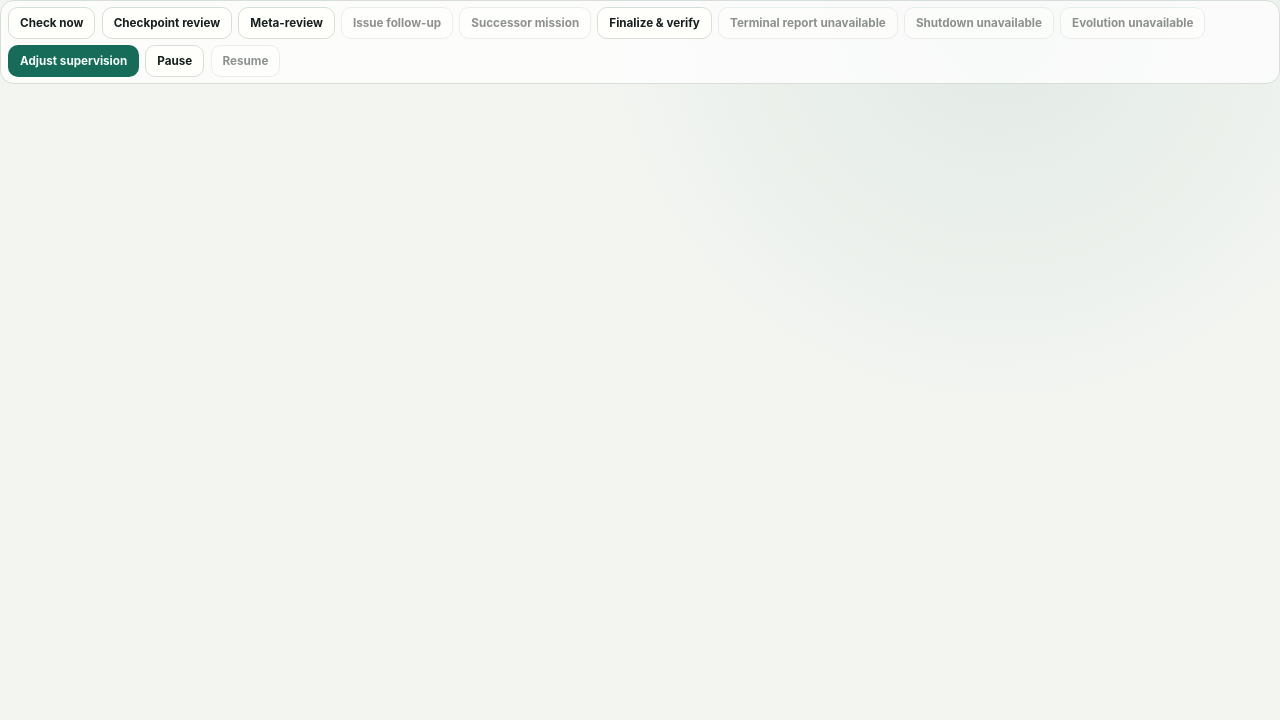
it: Factory workflow action strips › labels retained-review recovery as finalize without requesting review again
Click the button "Finalize & verify": (655,23) [597,7,712,39]
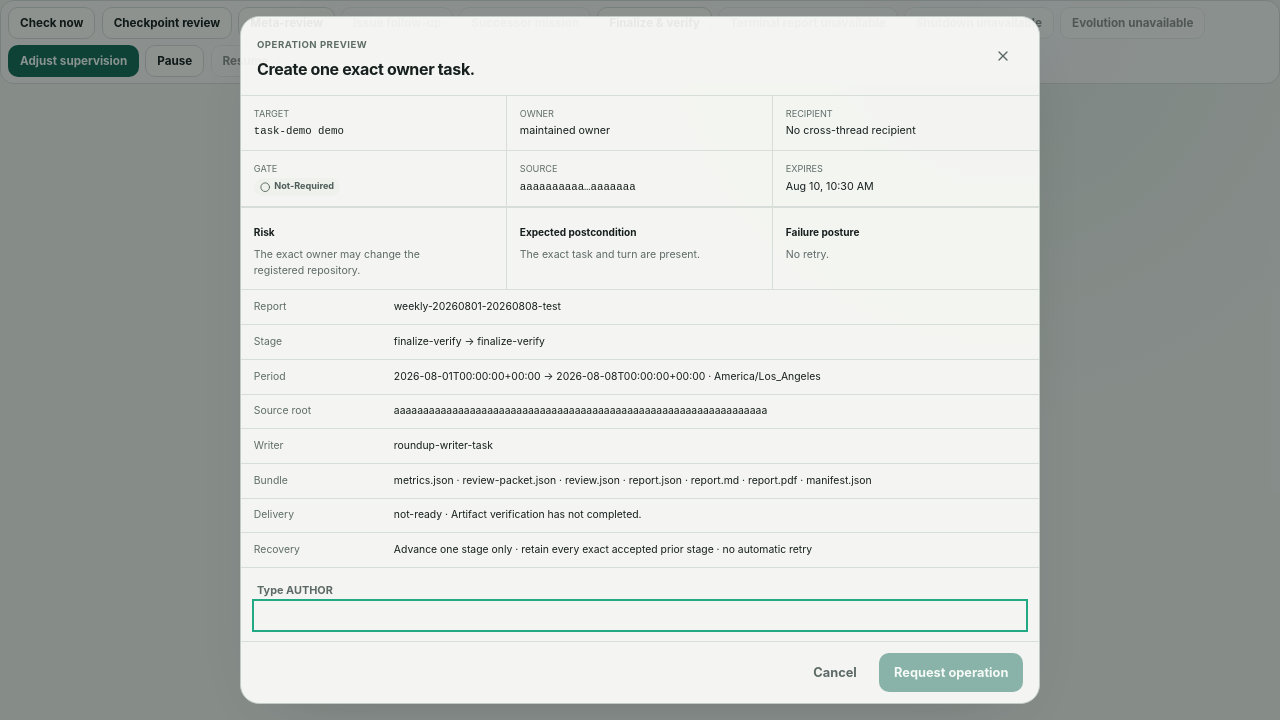
Now the text "finalize-verify → finalize-verify" is shown, box [394,335,545,348]
